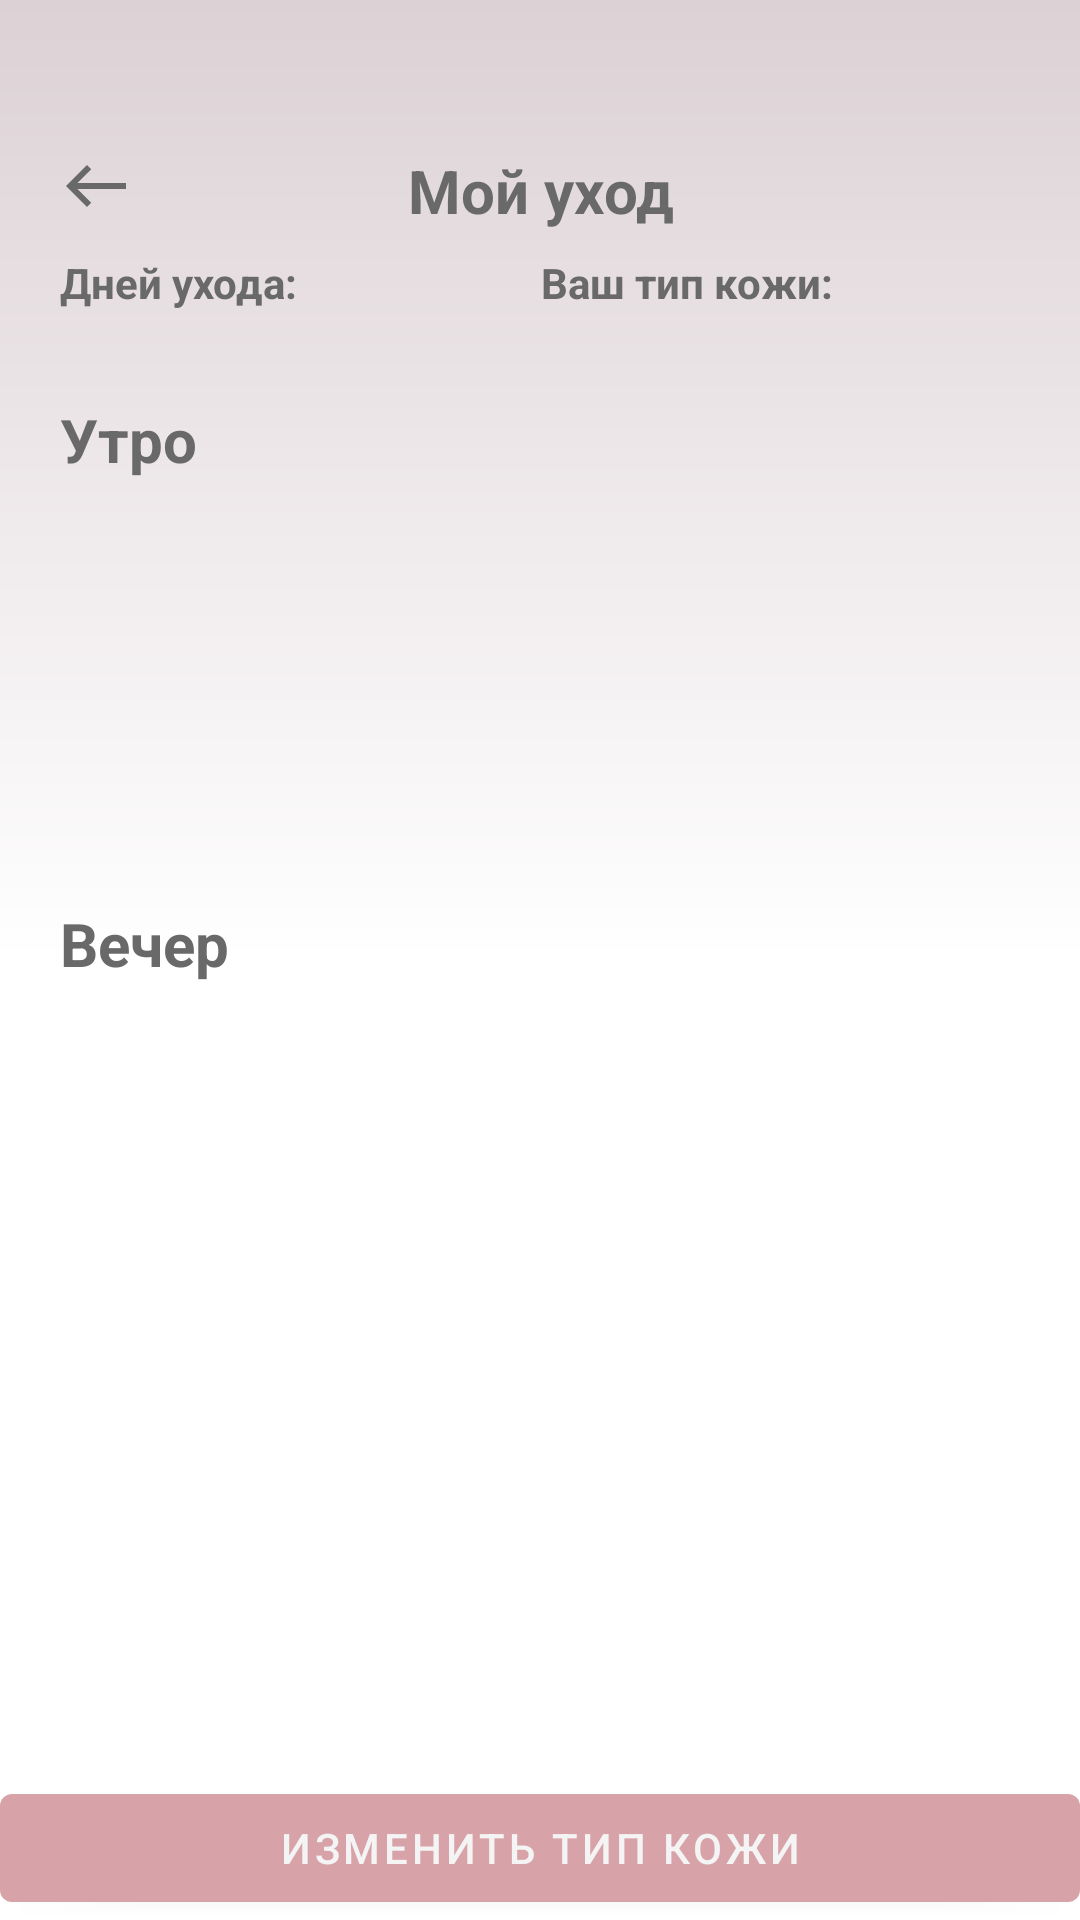

Icons on this 1080 × 1920 Android screen, each with the point to tap as [x,y]:
left back: [96,186]
